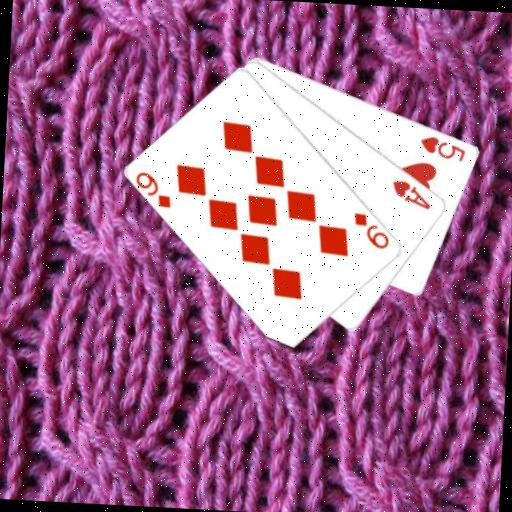5H: (417, 132, 468, 164)
9D: (350, 209, 393, 251), (132, 168, 175, 210)
AH: (388, 176, 434, 211)
